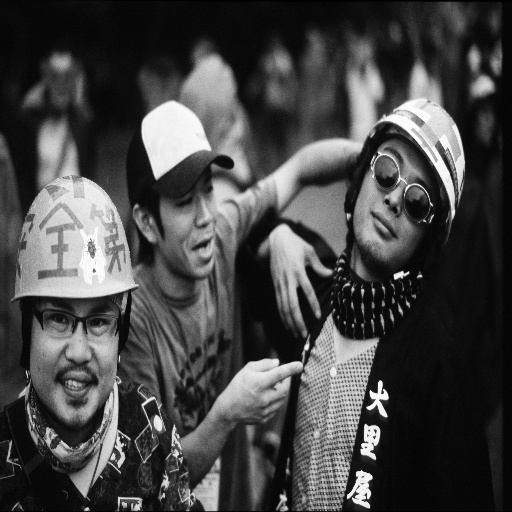hand: (269, 230, 334, 340), (242, 338, 306, 419)
